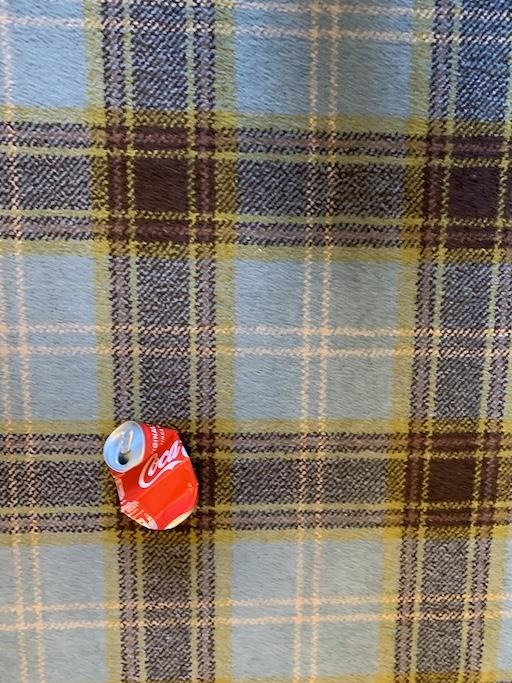Aluminum can: (98, 410, 228, 548)
